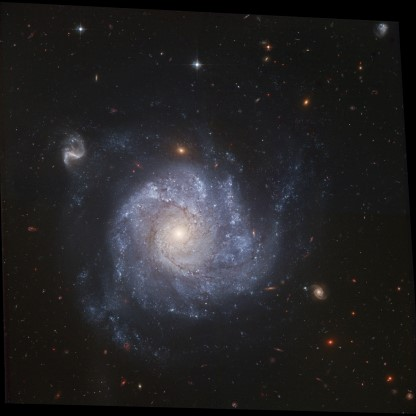NGC 1309: (37, 125, 346, 349)
